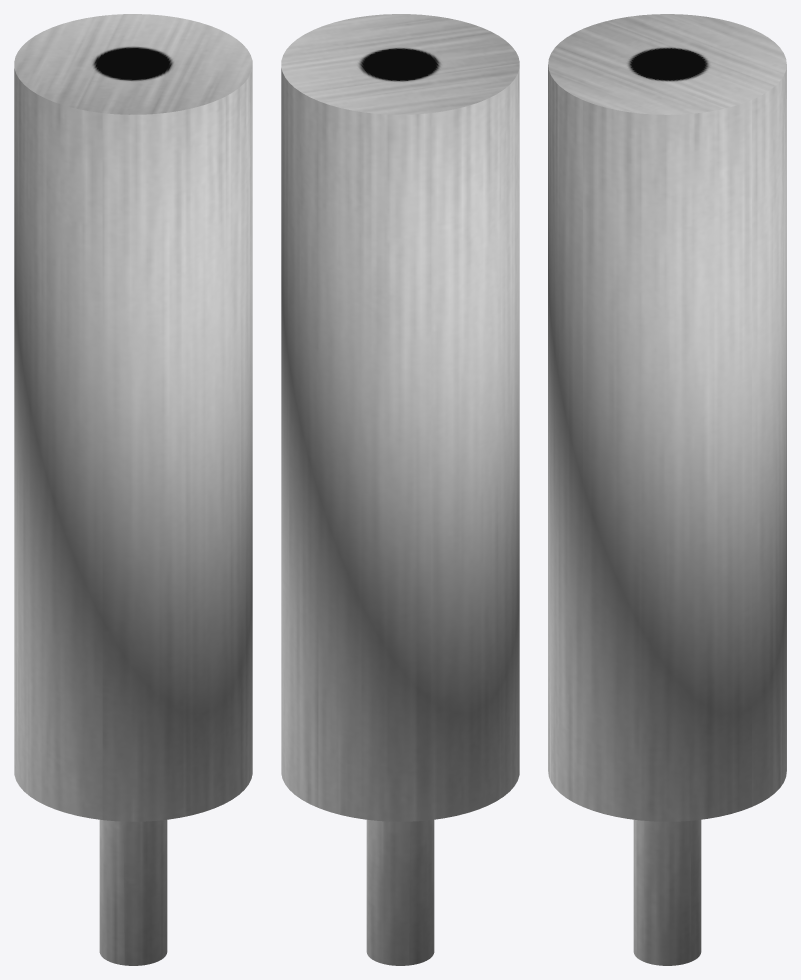
File: pole_bottom.dae
3 renders of one model, left to right at view 1: azimuth 30°, elevation 25°; view 2: azimuth 150°, elevation 25°; view 3: azimuth 270°, elevation 25°, orthographic.
Parts seen in each view (by area): view 1: _f_poll; view 2: _f_poll; view 3: _f_poll.
Part boxes in pixels (x1,y1,x2,y2): _f_poll: (14,14,252,965); _f_poll: (281,14,519,965); _f_poll: (548,14,786,965).
Bounding box in the file's own units: 0.012 × 0.012 × 0.0492.
Materials: 1 (1 with a texture image).
